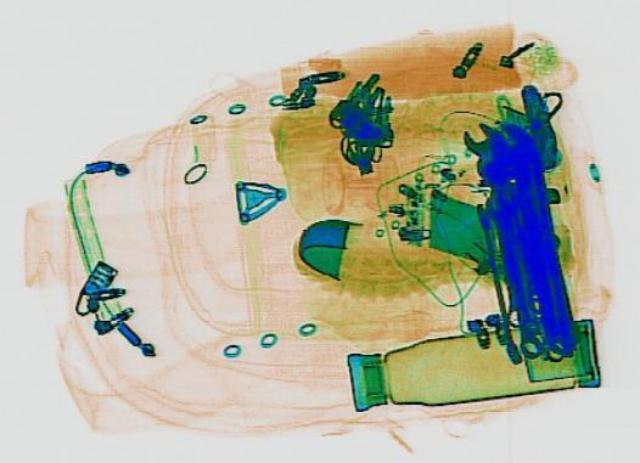Pliers: (456, 119, 550, 358)
